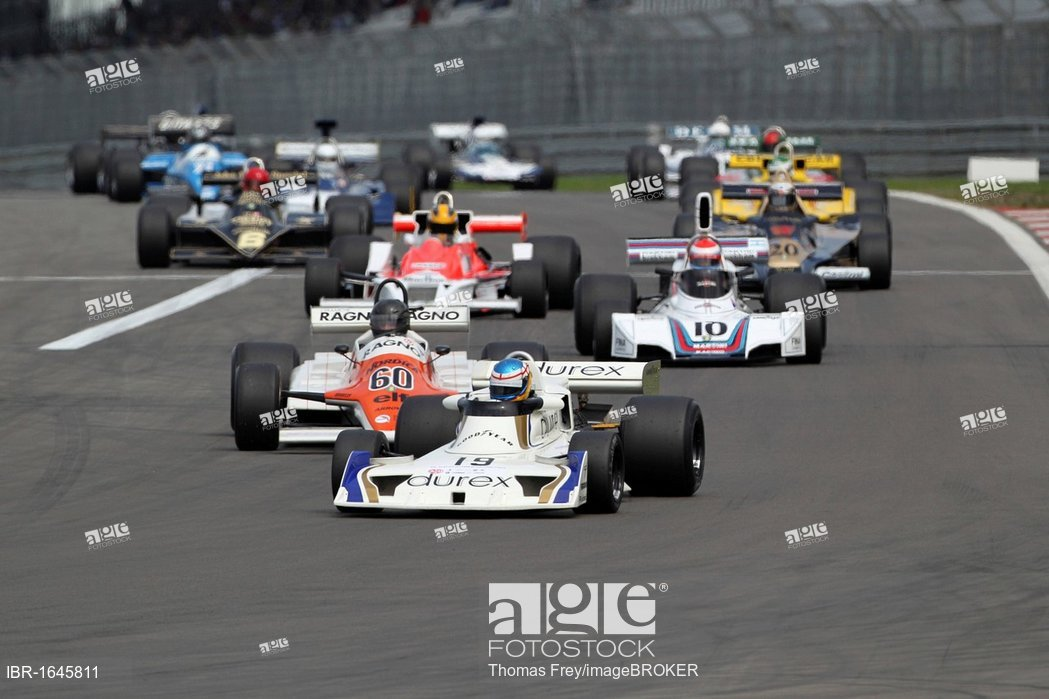f1_car: (321, 346, 722, 531), (208, 272, 562, 459), (563, 188, 829, 379), (298, 185, 589, 343), (130, 151, 383, 289), (650, 164, 903, 299)
helmet: (485, 354, 543, 421), (363, 296, 418, 346), (679, 230, 731, 275), (758, 176, 803, 220), (422, 201, 464, 247)
